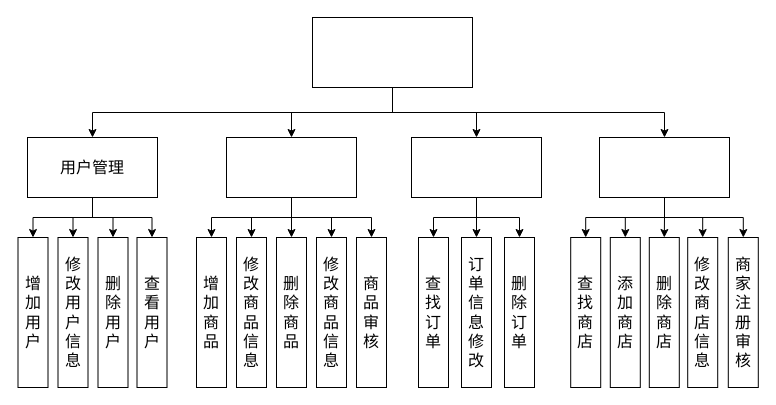
This 776x405 diagram has some shape labels left out. Each missing label, with the centre of its shape:
"后台管理" belongs at point (392, 52).
"商品管理" belongs at point (291, 167).
"商店管理" belongs at point (664, 167).
"订单管理" belongs at point (476, 167).
